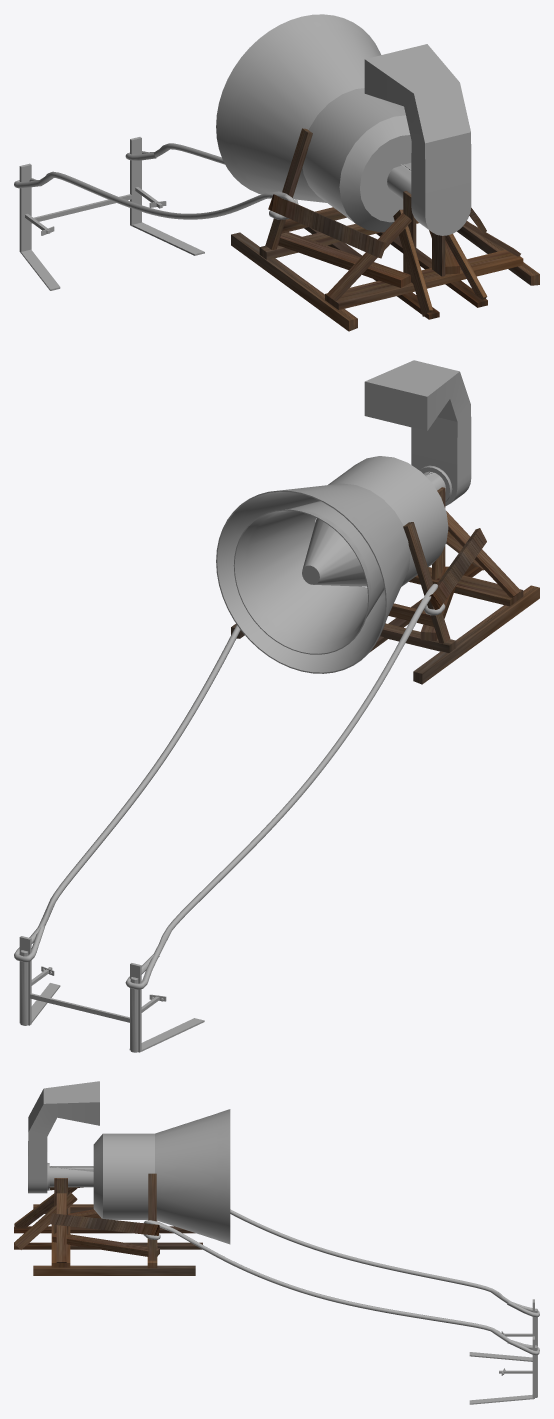
The model's file is bluesBrothers.gltf.
3 renders of one model, top to bottom at view 1: azimuth 30°, elevation 25°; view 2: azimuth 150°, elevation 25°; view 3: azimuth 270°, elevation 25°, orthographic. The views are drawn at different scales.
Parts seen in each view (by area): view 1: pCylinder8:PIV, pCube39:PIV, ropeL:PIV, pCube42:PIV, pCube45:PIV, pCube47:PIV, pCube49:PIV, pCube46:PIV, pCube48:PIV, pCube44:PIV, bluesBrothers|frontRam|pCube34:PIV, pCube43:PIV (+5 smaller); view 2: pCylinder8:PIV, pCylinder9:PIV, ropeL:PIV, pCylinder10:PIV, pCube39:PIV, pCube47:PIV, pCube44:PIV, pCube42:PIV, pCube46:PIV, bluesBrothers|frontRam|pCube34:PIV, pCube40:PIV; view 3: pCylinder8:PIV, ropeL:PIV, pCube39:PIV, pCube47:PIV, pCube48:PIV, pCube49:PIV, pCube45:PIV, bluesBrothers|frontRam|pCube34:PIV, pCube46:PIV, pCube44:PIV, pCube42:PIV.
Boxes of the visible parts, left/top/right/bottom form: pCylinder8:PIV: left=216, top=14, right=471, bottom=235; pCube39:PIV: left=231, top=221, right=539, bottom=331; ropeL:PIV: left=14, top=143, right=298, bottom=219; pCube42:PIV: left=325, top=250, right=523, bottom=309; pCube45:PIV: left=278, top=230, right=459, bottom=287; pCube47:PIV: left=268, top=194, right=486, bottom=258; pCube49:PIV: left=393, top=209, right=487, bottom=316; pCube46:PIV: left=327, top=213, right=520, bottom=300; pCube48:PIV: left=304, top=227, right=487, bottom=319; pCube44:PIV: left=265, top=128, right=312, bottom=249; bluesBrothers|frontRam|pCube34:PIV: left=20, top=222, right=204, bottom=290; pCube43:PIV: left=403, top=191, right=445, bottom=283; pCylinder8:PIV: left=216, top=360, right=471, bottom=673; pCylinder9:PIV: left=233, top=501, right=384, bottom=654; ropeL:PIV: left=14, top=583, right=445, bottom=989; pCylinder10:PIV: left=302, top=518, right=366, bottom=586; pCube39:PIV: left=231, top=585, right=539, bottom=684; pCube47:PIV: left=429, top=528, right=486, bottom=609; pCube44:PIV: left=403, top=522, right=450, bottom=643; pCube42:PIV: left=409, top=567, right=523, bottom=606; pCube46:PIV: left=446, top=511, right=520, bottom=597; bluesBrothers|frontRam|pCube34:PIV: left=28, top=983, right=204, bottom=1052; pCube40:PIV: left=380, top=623, right=456, bottom=652; pCylinder8:PIV: left=28, top=1081, right=230, bottom=1244; ropeL:PIV: left=143, top=1209, right=539, bottom=1355; pCube39:PIV: left=33, top=1204, right=195, bottom=1275; pCube47:PIV: left=49, top=1187, right=159, bottom=1235; pCube48:PIV: left=14, top=1226, right=202, bottom=1249; pCube49:PIV: left=14, top=1187, right=77, bottom=1249; pCube45:PIV: left=52, top=1209, right=159, bottom=1256; bluesBrothers|frontRam|pCube34:PIV: left=469, top=1352, right=534, bottom=1404; pCube46:PIV: left=56, top=1193, right=66, bottom=1262; pCube44:PIV: left=148, top=1173, right=156, bottom=1260; pCube42:PIV: left=51, top=1206, right=70, bottom=1267.
Bounding box in the file's own units: 21.17 × 44.17 × 73.33.
2 materials, 1 textured.
